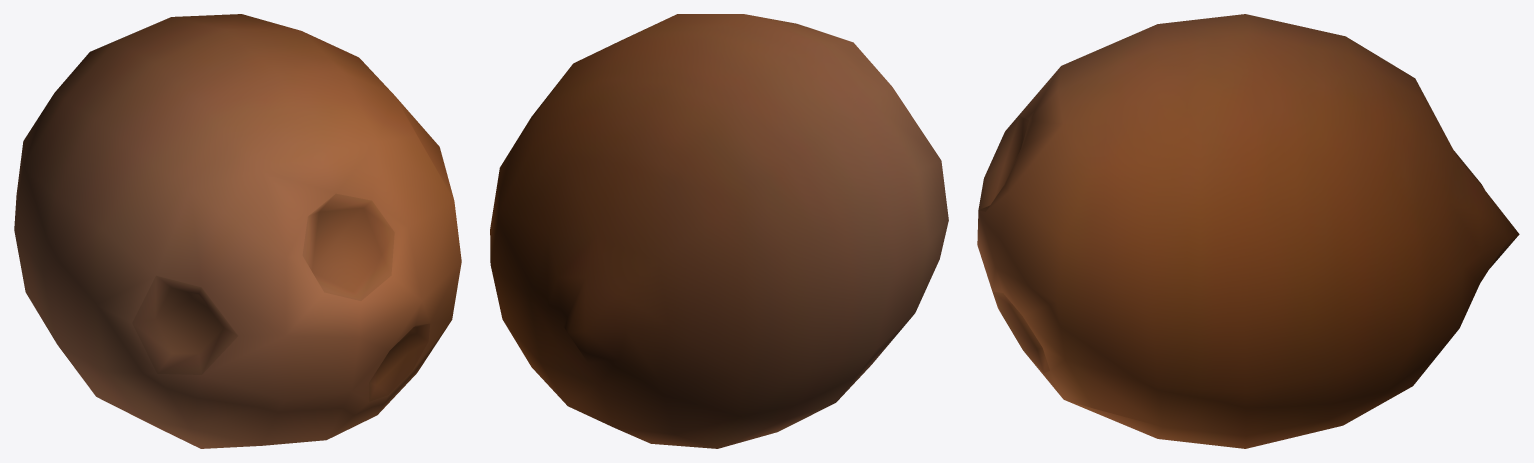
Rendered from coconut.fbx.
3 views of the same model, side by side, from view 1: azimuth 30°, elevation 25°; view 2: azimuth 150°, elevation 25°; view 3: azimuth 270°, elevation 25° (orthographic).
Parts seen in each view (by area): view 1: coconut; view 2: coconut; view 3: coconut.
Part boxes in pixels (x1,y1,x2,y2): coconut: [14, 14, 461, 448]; coconut: [490, 14, 948, 448]; coconut: [977, 14, 1519, 448].
Size of the model in its own units: 14.01 by 14.16 by 17.63.
